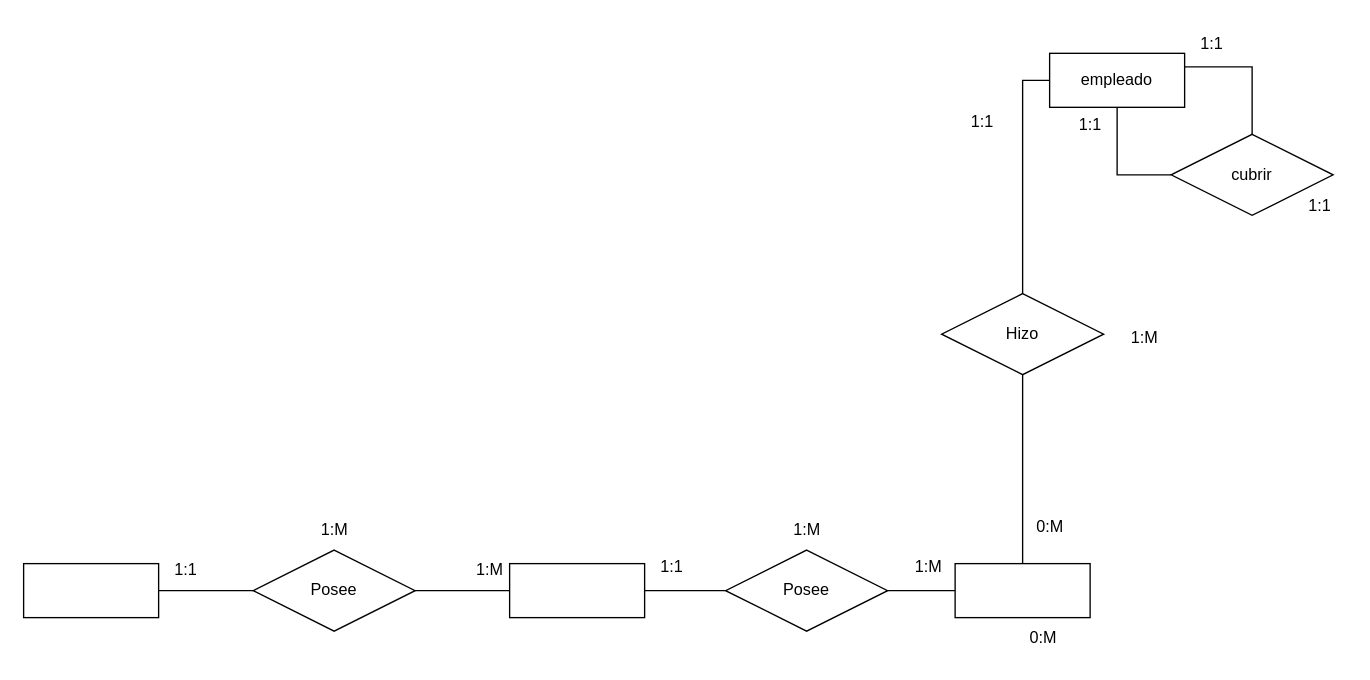
Image size: 1370x680. Some labels were removed from this diagram. The shapes that lost their labels are listed below. From the top down, each one's centre as x and y in pixels, then its label:
At pixel 90 590: "cliente".
At pixel 576 590: "perror".
At pixel 1022 590: "Lavado".
